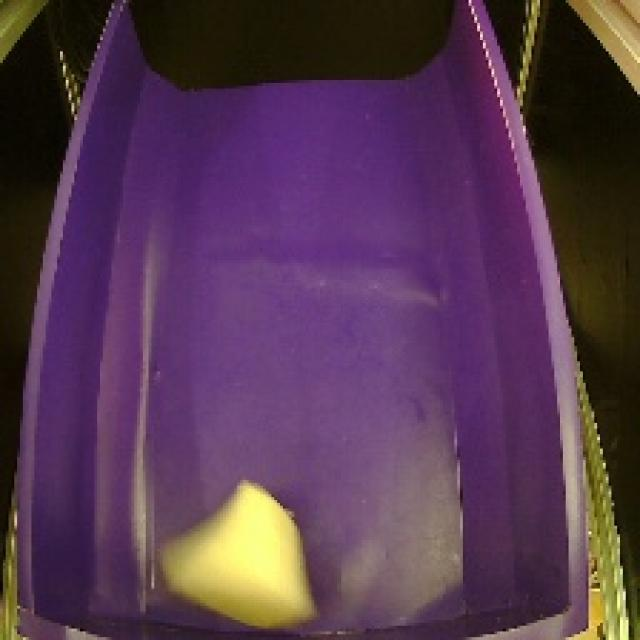white_radish: (156, 467, 328, 630)
